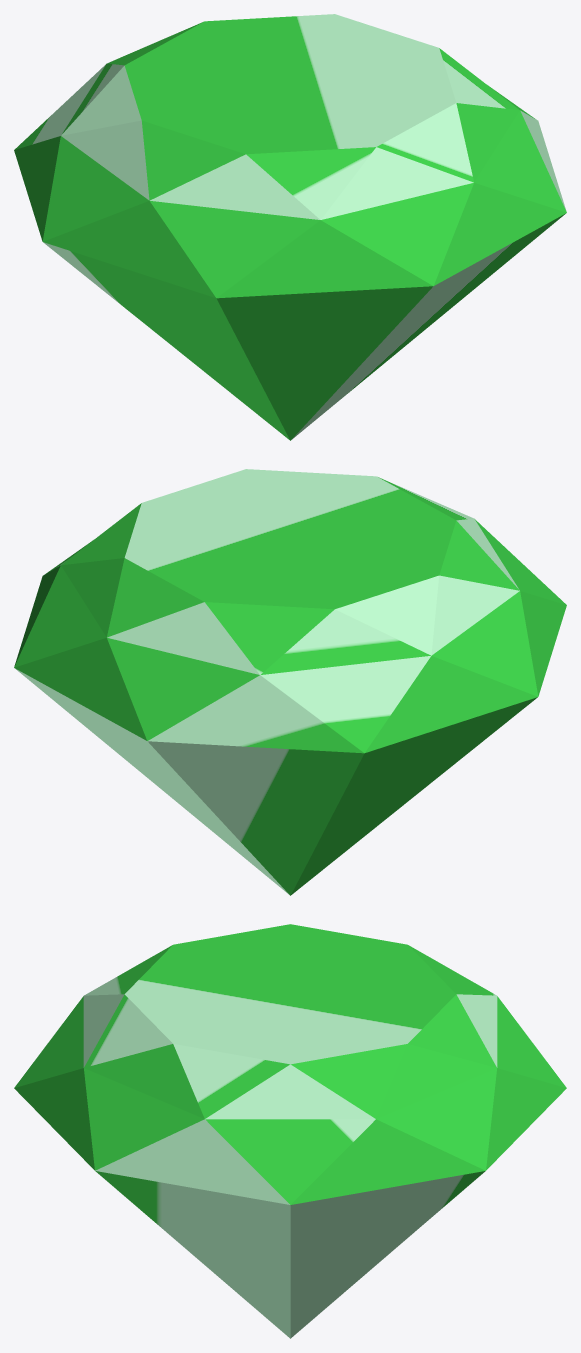
The model's file is healitem.fbx.
3 renders of one model, top to bottom at view 1: azimuth 30°, elevation 25°; view 2: azimuth 150°, elevation 25°; view 3: azimuth 270°, elevation 25°, orthographic. The views are drawn at different scales.
Parts seen in each view (by area): view 1: Jewelry_01; view 2: Jewelry_01; view 3: Jewelry_01.
Part boxes in pixels (x1,y1,x2,y2): Jewelry_01: [14, 14, 566, 440]; Jewelry_01: [14, 469, 566, 895]; Jewelry_01: [14, 924, 566, 1338].
Size of the model in its own units: 48 by 48 by 33.
